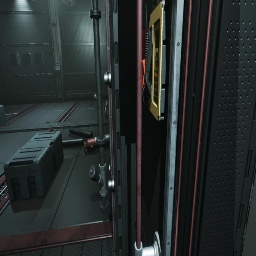EmergencyPhone ,: (142, 0, 170, 122)
FireAlarm ,: (142, 28, 147, 92)
FirstAidBox ,: (94, 93, 97, 101)
NitrogenTank ,: (84, 134, 110, 153)
